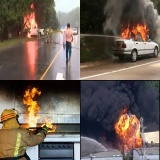fire: (115, 111, 142, 148), (22, 87, 41, 128), (121, 20, 149, 43), (22, 1, 34, 37), (41, 116, 56, 132)
